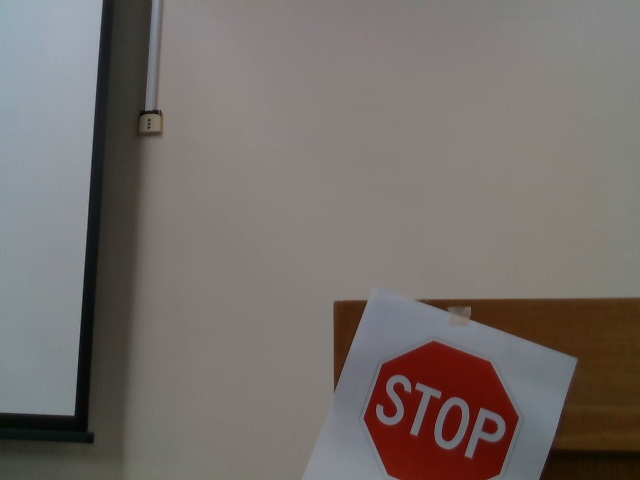stop: (359, 336, 524, 480)
